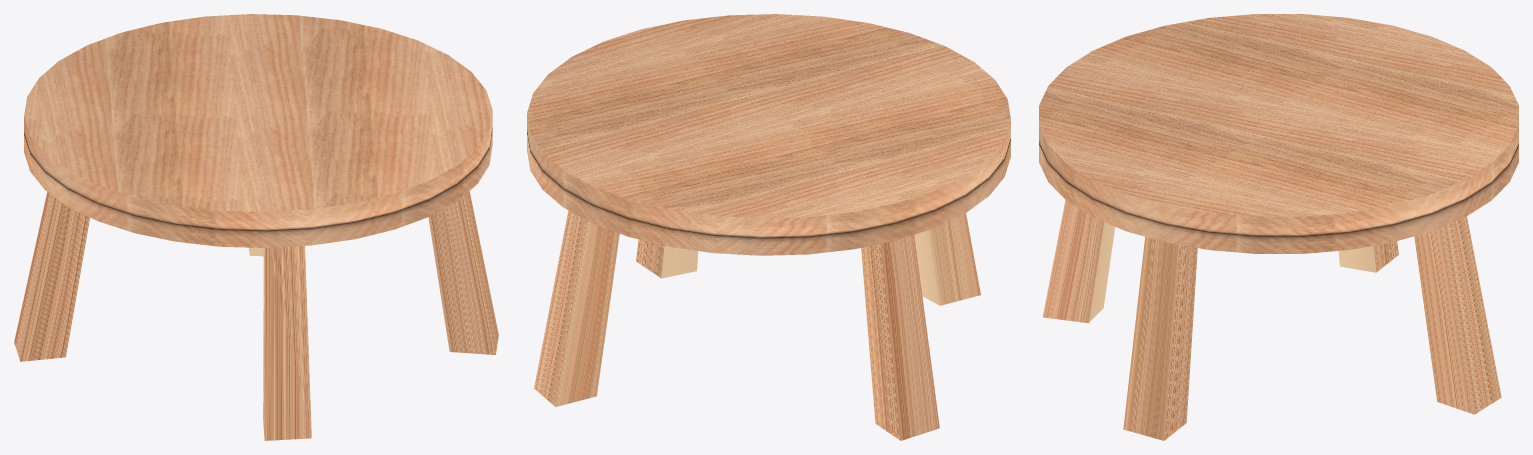
The model's file is mesa salon.fbx.
3 renders of one model, left to right at view 1: azimuth 30°, elevation 25°; view 2: azimuth 150°, elevation 25°; view 3: azimuth 270°, elevation 25°, orthographic. The views are drawn at different scales.
Visible parts, largest first — view 1: Cylinder.010; view 2: Cylinder.010; view 3: Cylinder.010.
Part boxes in pixels (x1,y1,x2,y2): Cylinder.010: [14, 14, 498, 440]; Cylinder.010: [527, 14, 1010, 440]; Cylinder.010: [1039, 14, 1518, 440].
Bounding box in the file's own units: 645 × 345 × 645.
